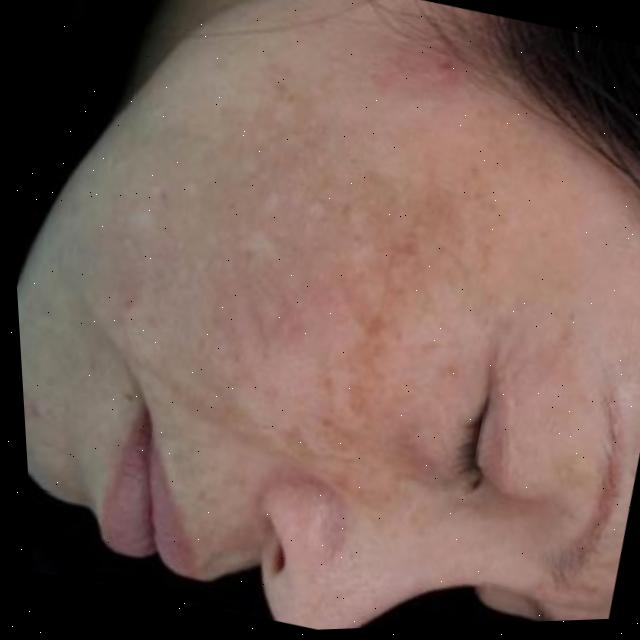Melasma: (180, 123, 500, 488)
